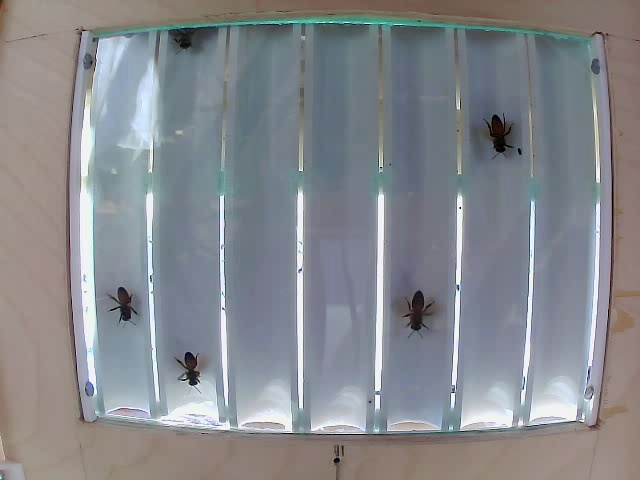bee: (103, 288, 153, 324), (173, 344, 214, 386), (399, 285, 431, 332), (491, 101, 508, 159)
